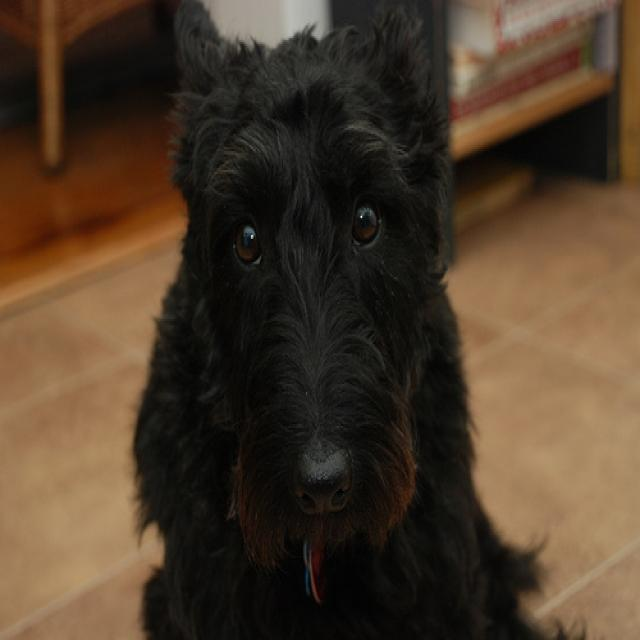dog-scottish_terrier: (122, 2, 531, 636)
